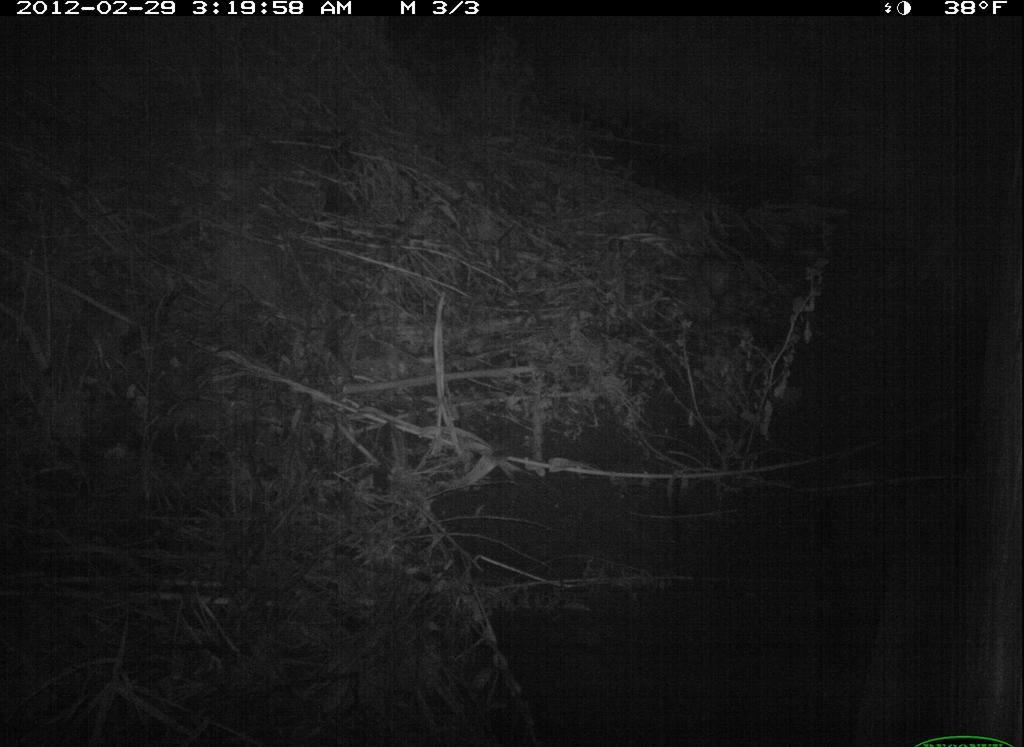opossum: (662, 231, 761, 329)
